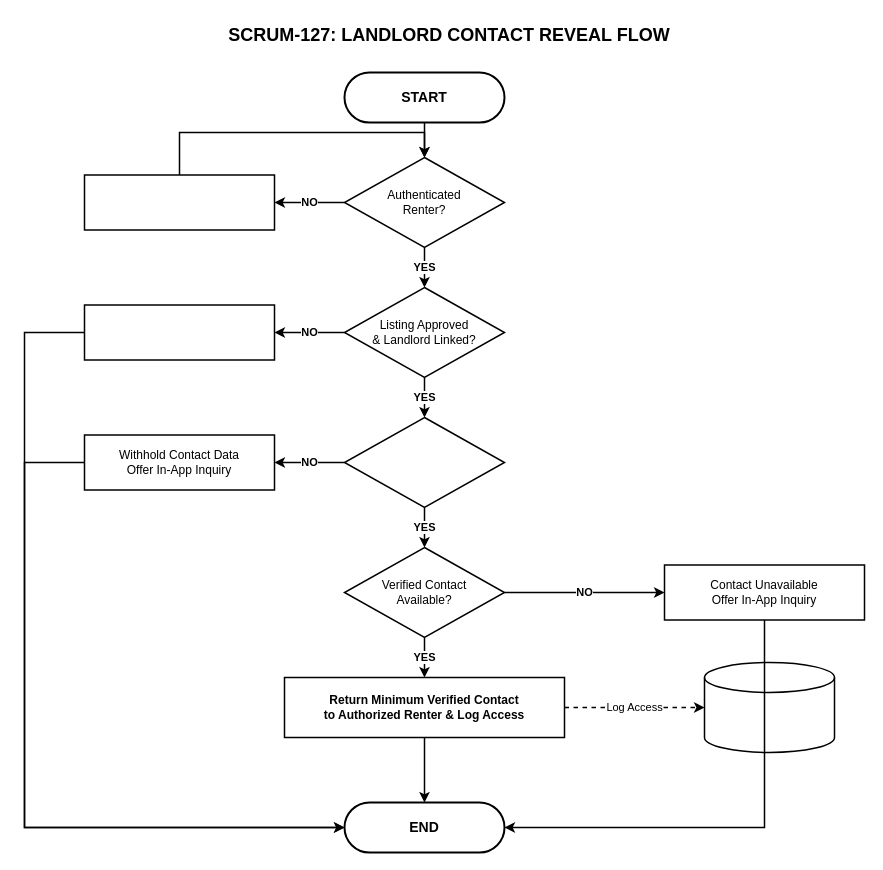
The diagram is 883 pixels wide and 870 high, and some of its shapes have lost their labels. Each missing label, with the centre of its shape:
"Fail Closed / Safe Response No Contact Disclosed" belongs at point (179, 332).
"Guest: SCRUM-121 Gate Store Intent & Sign In" belongs at point (179, 202).
"Landlord Contact & Access Log DB" belongs at point (769, 707).
"Policy & Abuse Controls Pass?" belongs at point (424, 462).
